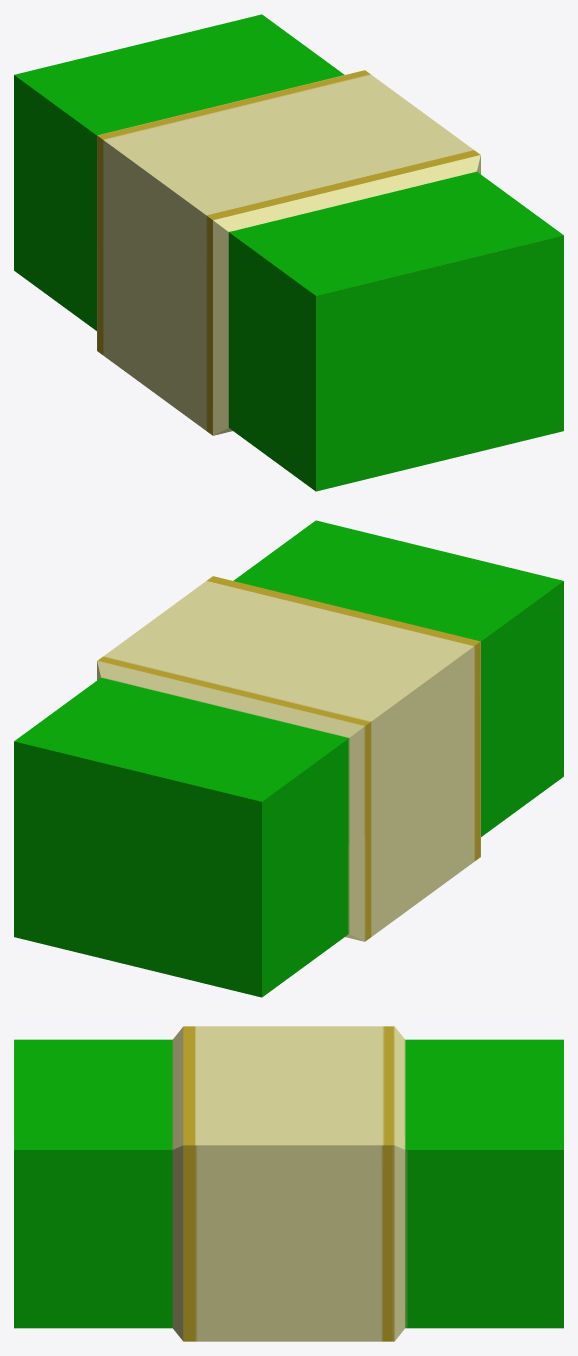
Rendered from bucks.fbx.
3 views of the same model, one above another, from view 1: azimuth 30°, elevation 25°; view 2: azimuth 150°, elevation 25°; view 3: azimuth 270°, elevation 25° (orthographic). The views are drawn at different scales.
Visible parts, largest first — view 1: Cube; view 2: Cube; view 3: Cube.
Boxes of the visible parts, left/top/right/bottom form: Cube: left=14, top=14, right=563, bottom=491; Cube: left=14, top=520, right=563, bottom=997; Cube: left=14, top=1026, right=563, bottom=1341.
Bounding box in the file's own units: 53.63 × 41.27 × 105.
1 material, 1 textured.
